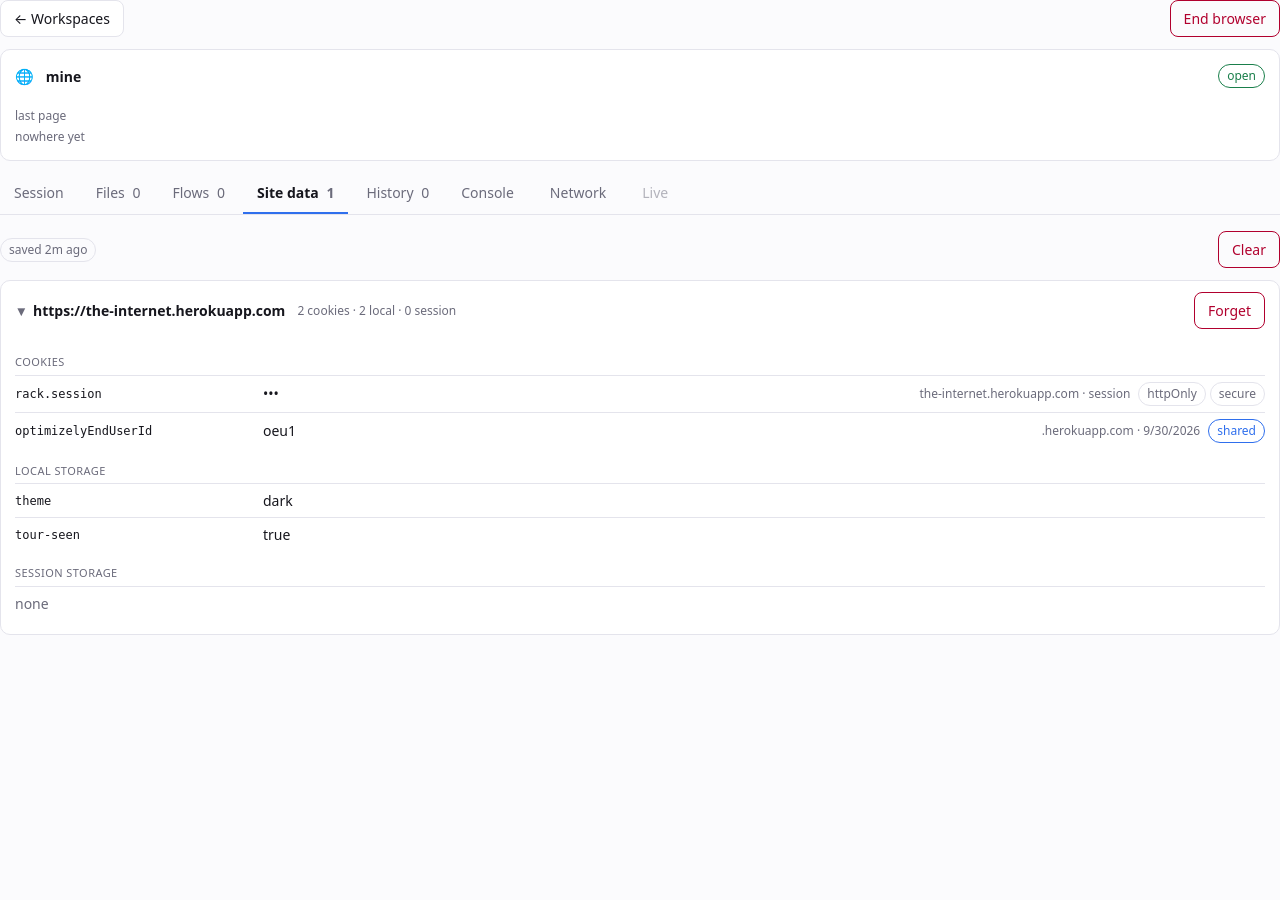
forgetting the last host leaves the empty line, not a pill: saved_at stays set
Check: the text "saved 2m ago" is shown, box [0,238,96,262]
Click the button "Forget": x=1230, y=310 [1194,292,1265,329]
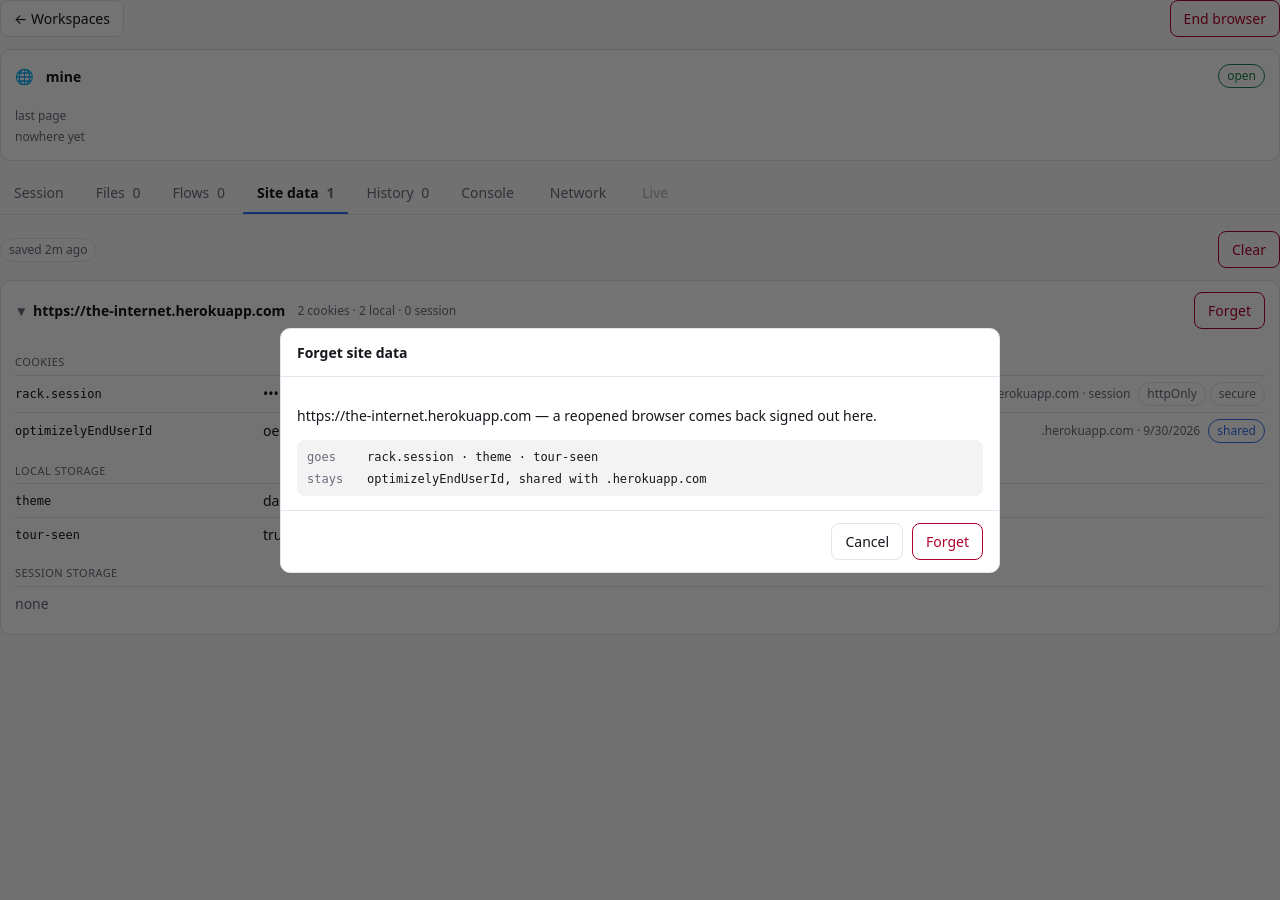
Click the button "Forget": x=948, y=541 [912,522,983,560]
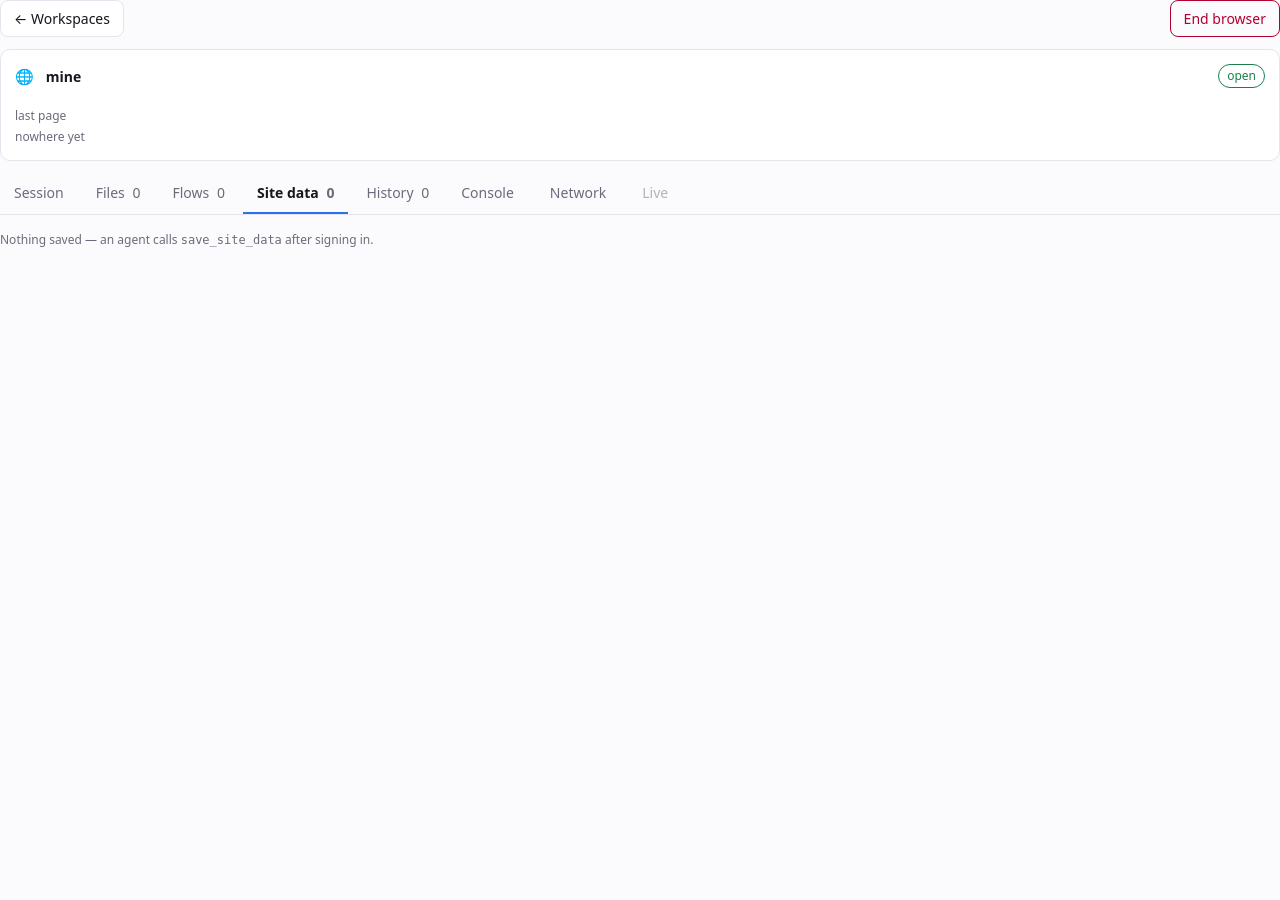
Check: the element that starts with "Nothing saved — an agent calls" is shown, box [0,231,373,248]
Check: the element with class "bar" is gone
Check: the text "saved 2m ago" is gone
